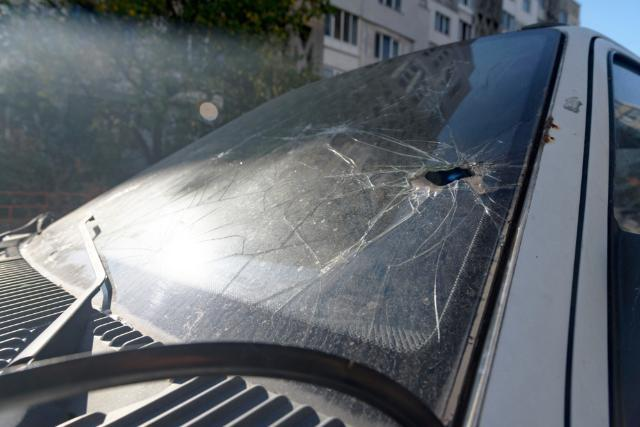glass shatter: (24, 29, 561, 427)
